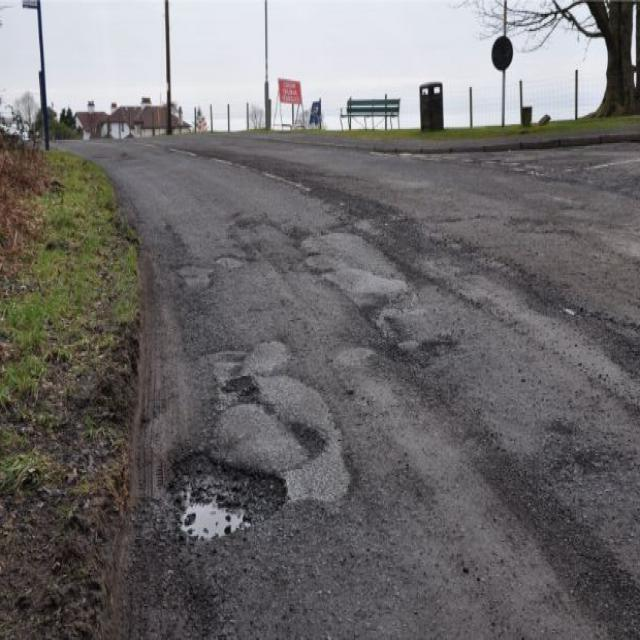Pothole: (166, 452, 289, 541)
